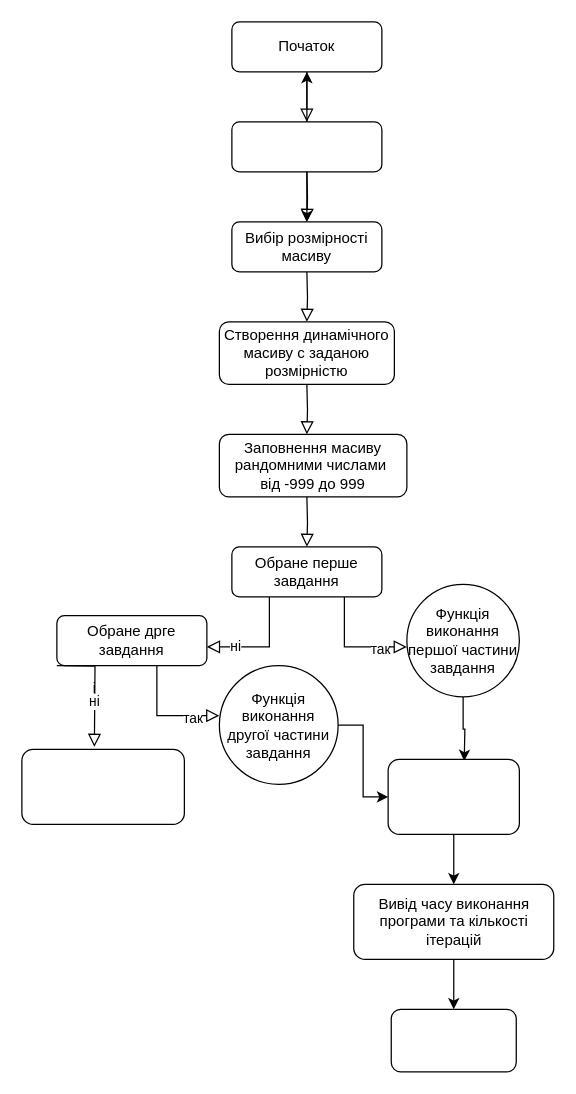
Image size: 576x1094. Some labels were removed from this diagram. Here are the shapes that lost their labels. From the top down, the box of each, then its label:
(231, 121, 382, 172): Вибір номеру завдання
(21, 748, 184, 824): Вивід дефолтного повідомлення про хибний вибір та кінець програми
(387, 758, 519, 834): unsigned int end_time = clock()
(390, 1008, 516, 1072): Кінець
